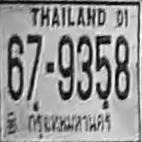3: (76, 33, 93, 100)
5: (94, 34, 113, 100)
6: (6, 32, 24, 101)
7: (26, 34, 42, 100)
8: (114, 34, 131, 101)
9: (57, 34, 74, 100)
BKK: (21, 110, 115, 141)
